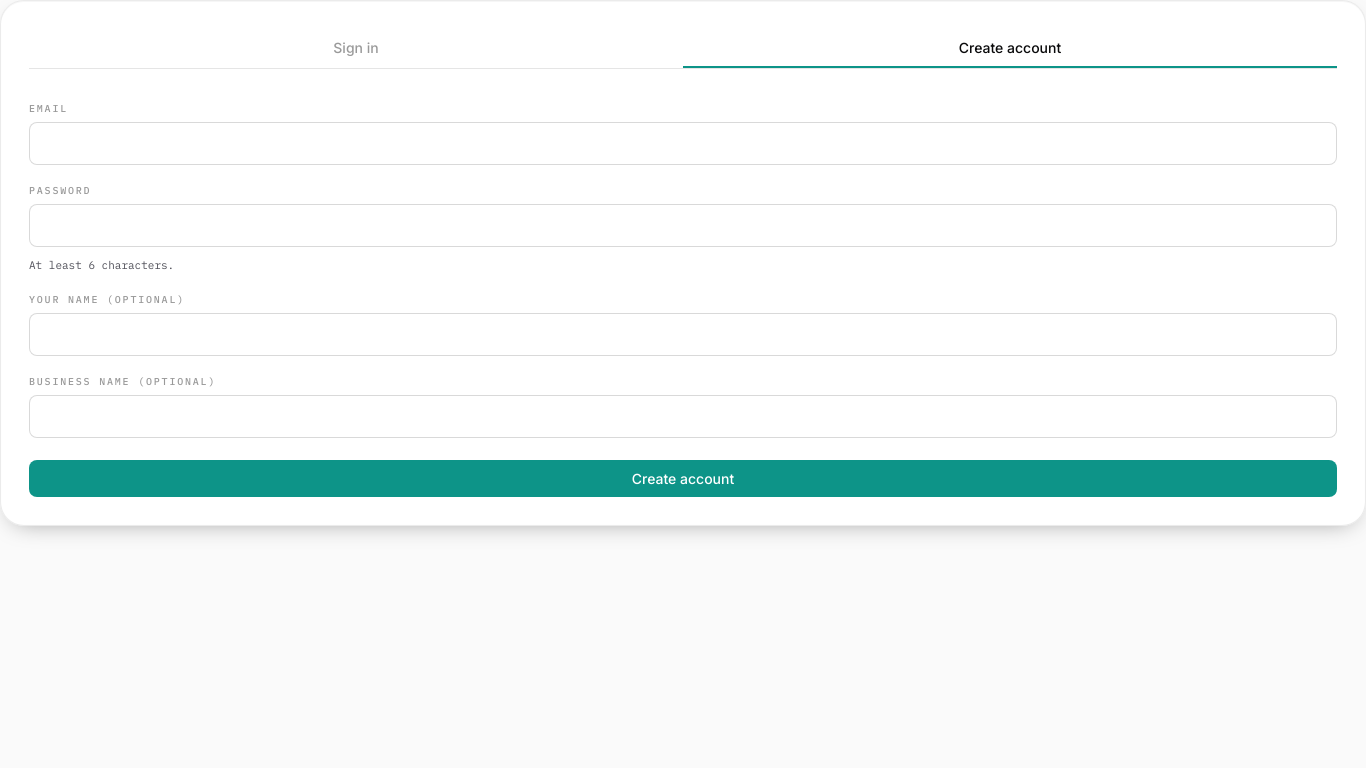
AuthForm › switches to login mode and hides registration fields
This screenshot has width=1366, height=768.
Click the tab "Sign in". click: (356, 48)
box: [29,29,683,68]
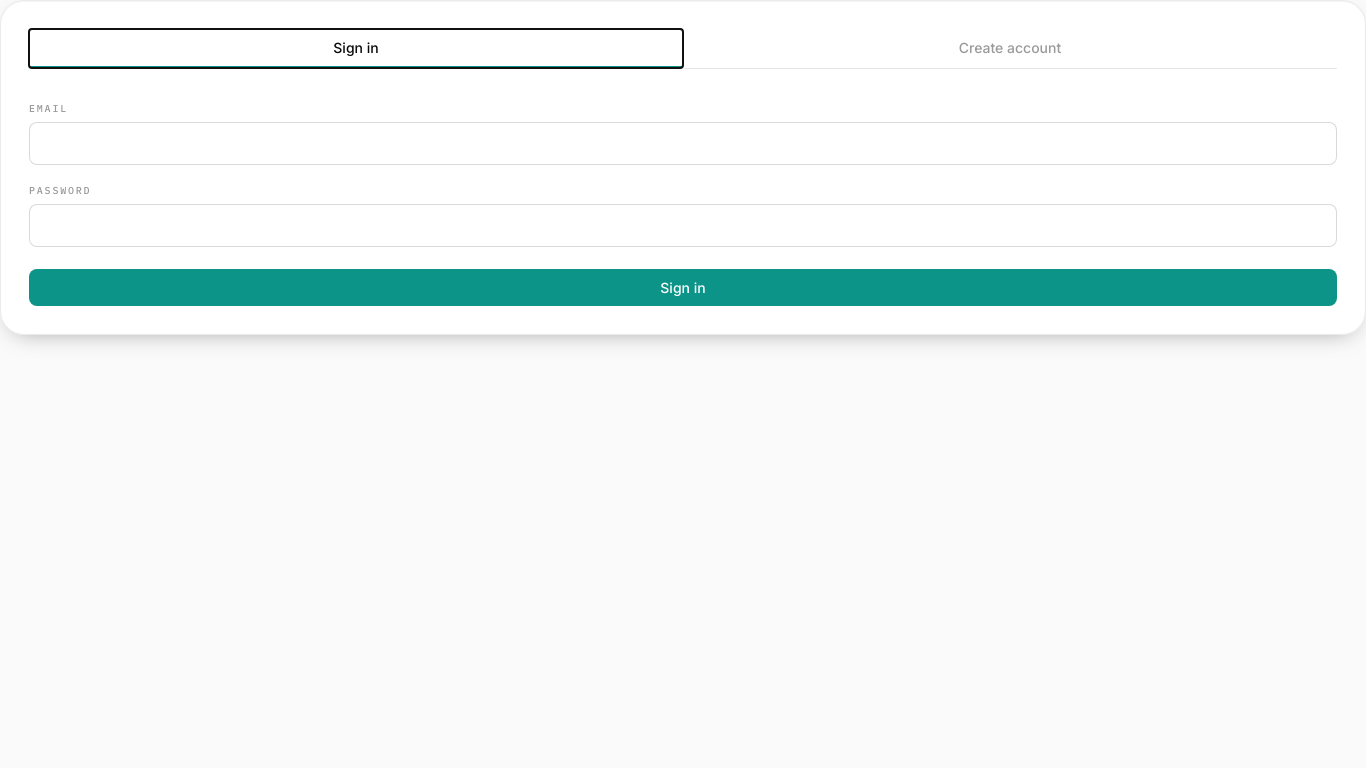
Check: the label labelled "Your name" is gone
Check: the label labelled "Business name" is gone
